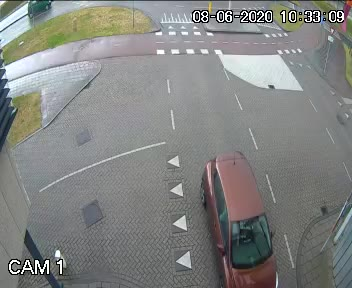car: (190, 136, 283, 288), (22, 0, 53, 24)
